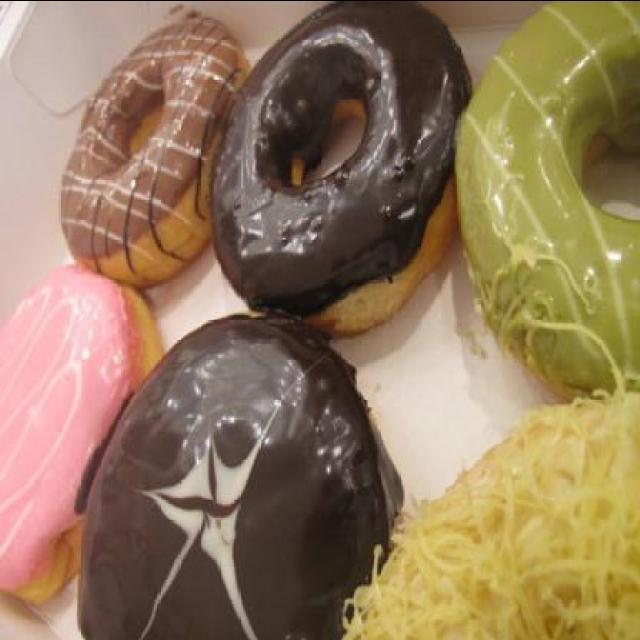Donuts: (1, 1, 639, 638)
